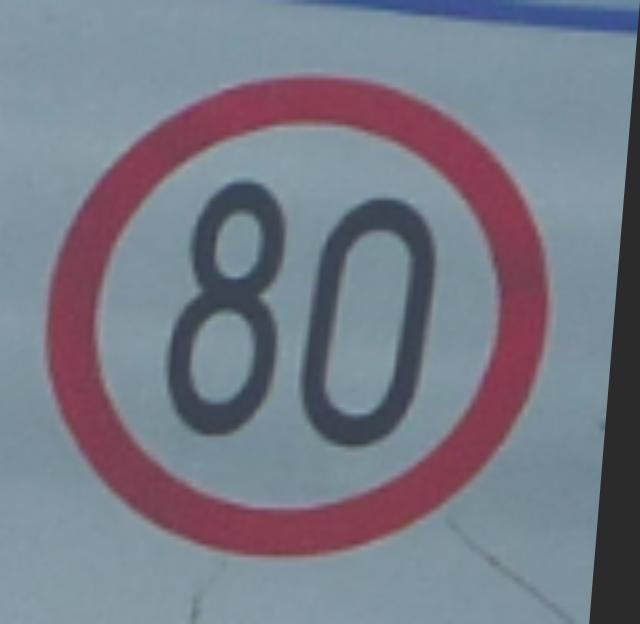limit80: (18, 46, 581, 568)
